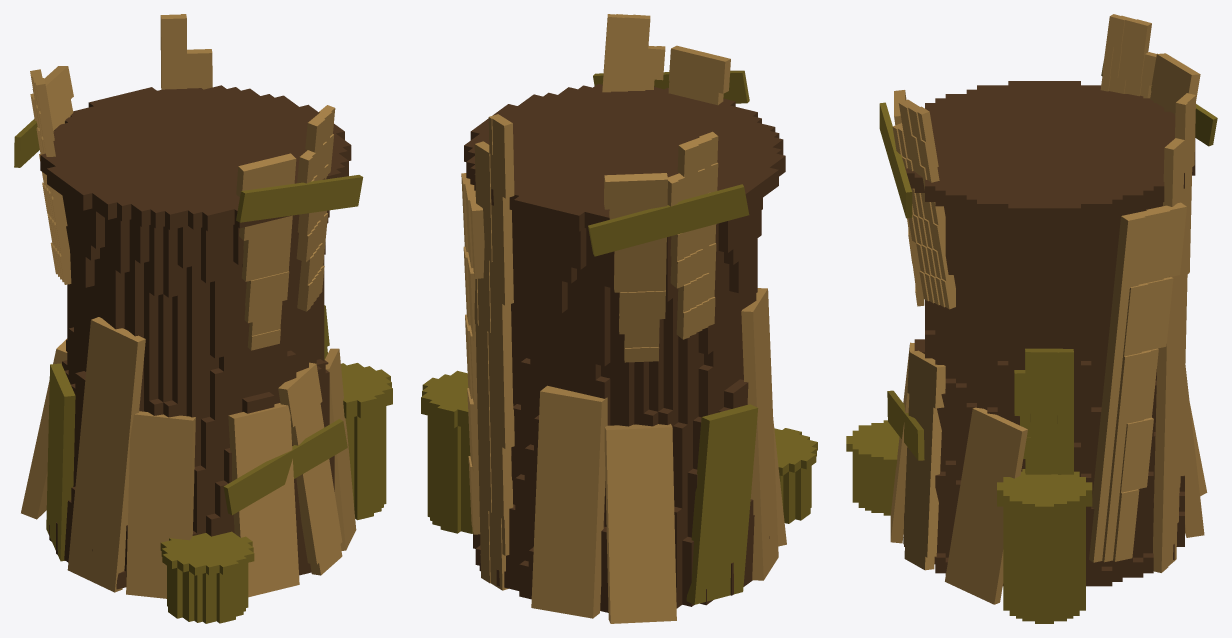
The model's file is Башня с лучником.fbx.
3 views of the same model, side by side, from view 1: azimuth 30°, elevation 25°; view 2: azimuth 150°, elevation 25°; view 3: azimuth 270°, elevation 25° (orthographic). The views are drawn at different scales.
Visible parts, largest first — view 1: Cube.013; view 2: Cube.013; view 3: Cube.013.
Part boxes in pixels (x1,y1,x2,y2): Cube.013: (14, 14, 392, 623); Cube.013: (421, 14, 817, 623); Cube.013: (846, 14, 1217, 623).
Size of the model in its own units: 306 by 400 by 289.
